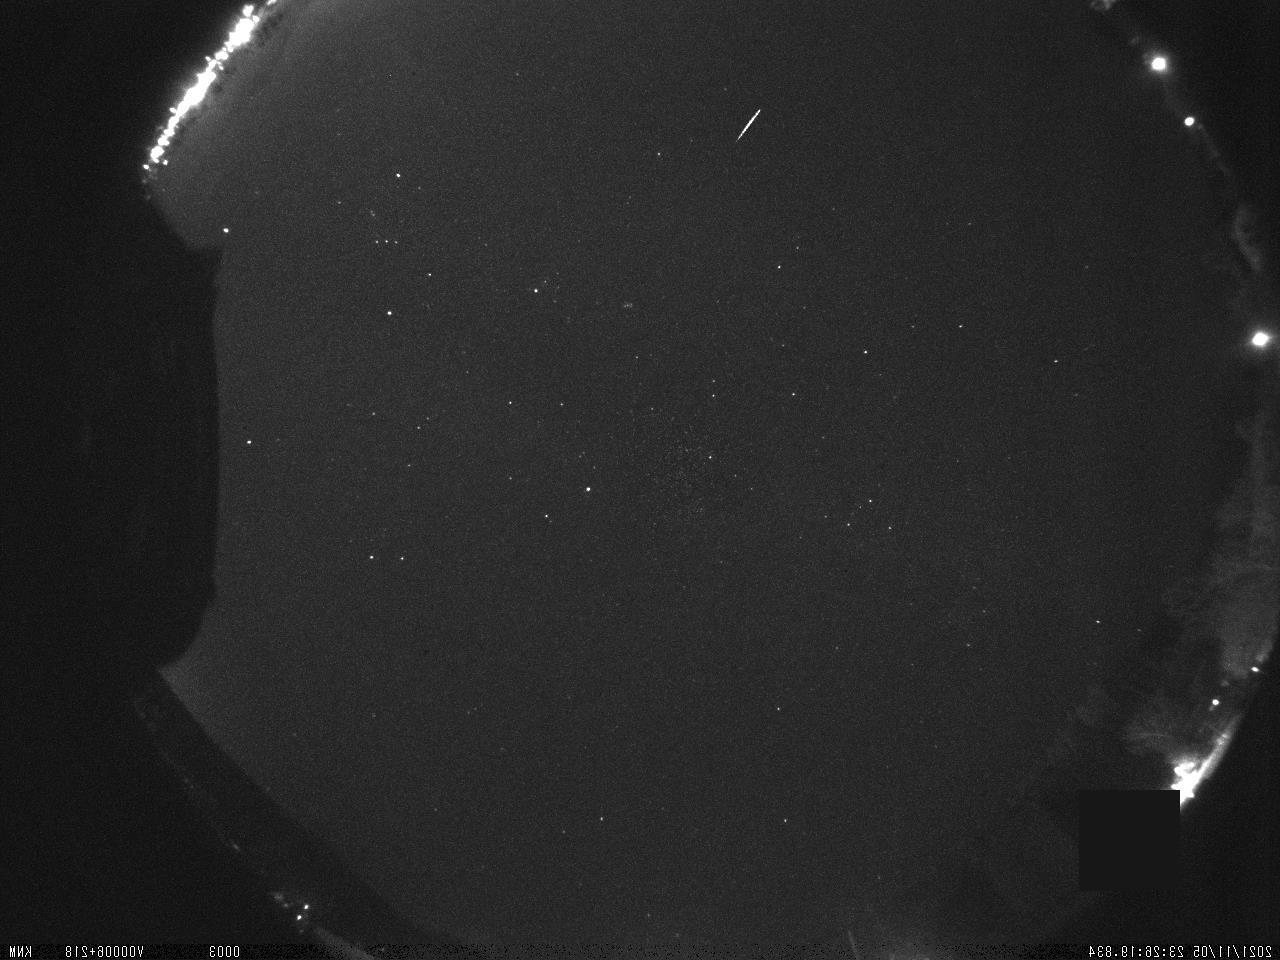meteor: (724, 100, 768, 152)
